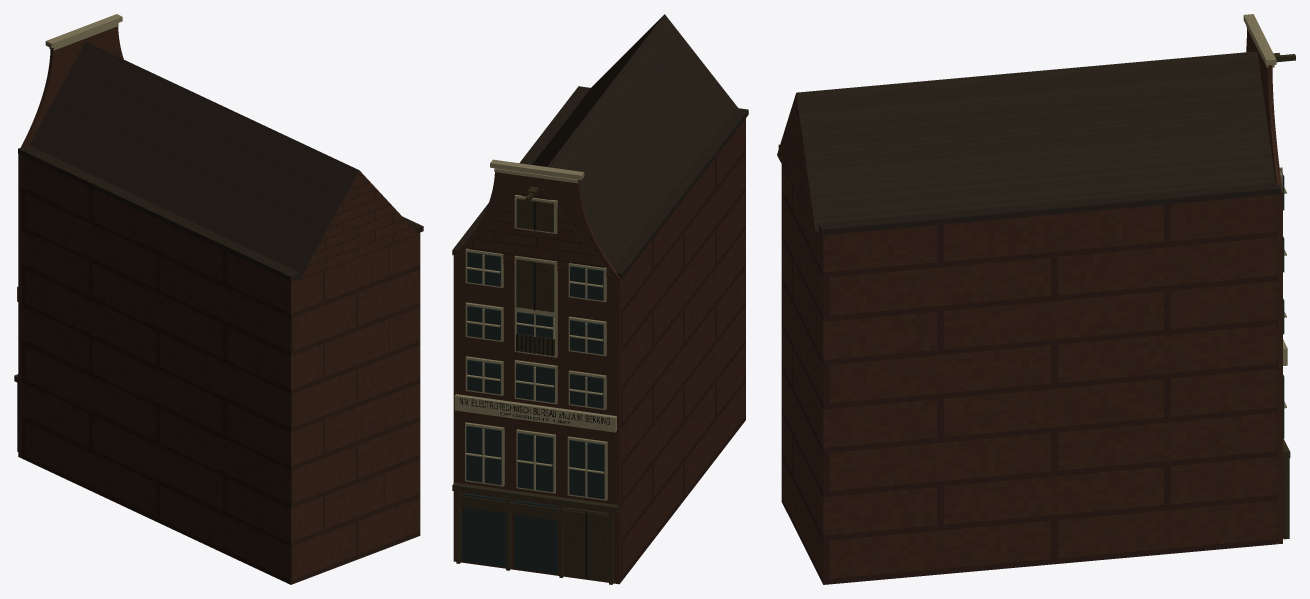
The picture shows the model from 3 angles, left to right: view 1: azimuth 30°, elevation 25°; view 2: azimuth 150°, elevation 25°; view 3: azimuth 270°, elevation 25°; orthographic projection. The views are drawn at different scales.
Visible parts, largest first — view 1: bekking-boerenvismarkt10-0, bekking-boerenvismarkt10-1, bekking-boerenvismarkt10-2; view 2: bekking-boerenvismarkt10-0, bekking-boerenvismarkt10-1, bekking-boerenvismarkt10-3, bekking-boerenvismarkt10-2, bekking-boerenvismarkt10-4, bekking-boerenvismarkt10-5; view 3: bekking-boerenvismarkt10-0, bekking-boerenvismarkt10-1, bekking-boerenvismarkt10-2, bekking-boerenvismarkt10-4.
Boxes of the visible parts, x1=… form: bekking-boerenvismarkt10-0: x1=18, y1=26, x2=420, y2=584; bekking-boerenvismarkt10-1: x1=18, y1=42, x2=423, y2=281; bekking-boerenvismarkt10-2: x1=17, y1=14, x2=122, y2=301; bekking-boerenvismarkt10-0: x1=453, y1=118, x2=745, y2=584; bekking-boerenvismarkt10-1: x1=452, y1=14, x2=748, y2=278; bekking-boerenvismarkt10-3: x1=462, y1=252, x2=604, y2=574; bekking-boerenvismarkt10-2: x1=454, y1=159, x2=616, y2=500; bekking-boerenvismarkt10-4: x1=452, y1=186, x2=618, y2=584; bekking-boerenvismarkt10-5: x1=460, y1=201, x2=609, y2=578; bekking-boerenvismarkt10-0: x1=777, y1=28, x2=1282, y2=584; bekking-boerenvismarkt10-1: x1=778, y1=51, x2=1282, y2=235; bekking-boerenvismarkt10-2: x1=1243, y1=14, x2=1287, y2=408; bekking-boerenvismarkt10-4: x1=1273, y1=53, x2=1295, y2=539.
Size of the model in its own units: 11.58 by 19.89 by 20.11.
Materials: 6 (6 with a texture image).
